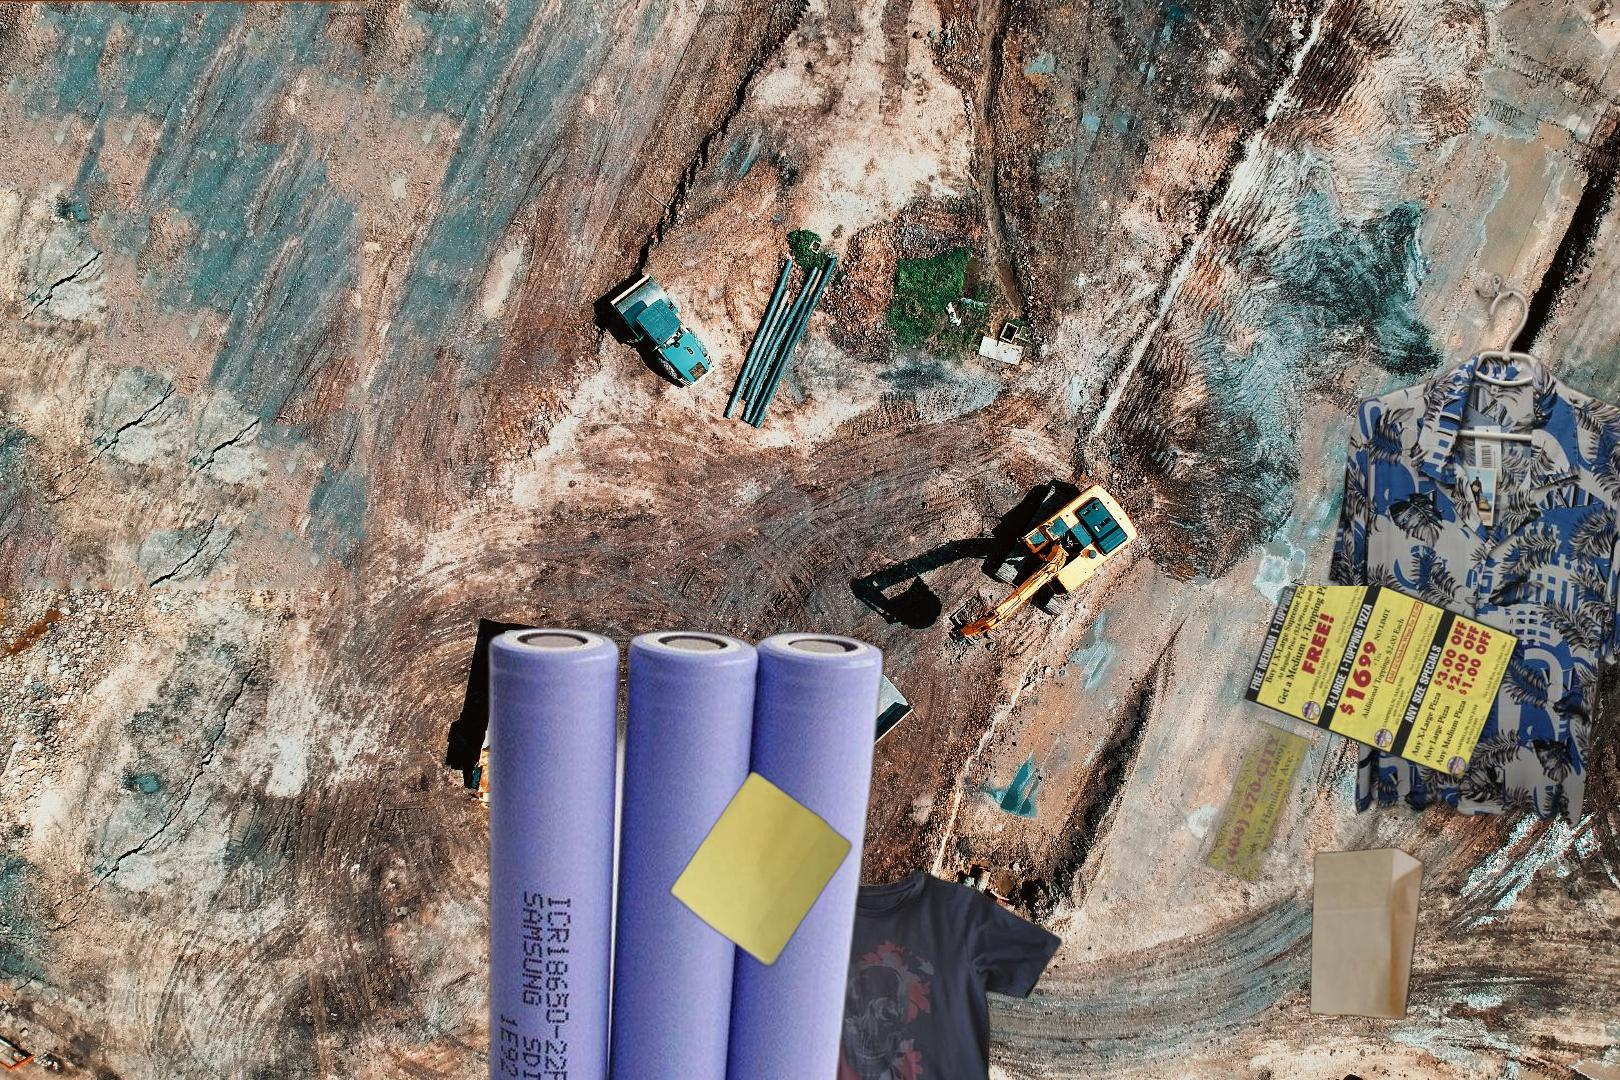battery: (480, 622, 891, 1080)
clothes: (1323, 268, 1620, 835), (688, 865, 1066, 1080)
paper: (1110, 586, 1600, 970), (665, 768, 856, 972)
paper-bag: (1180, 845, 1427, 1023)
trashbox-cardboard: (955, 855, 1467, 1080)
